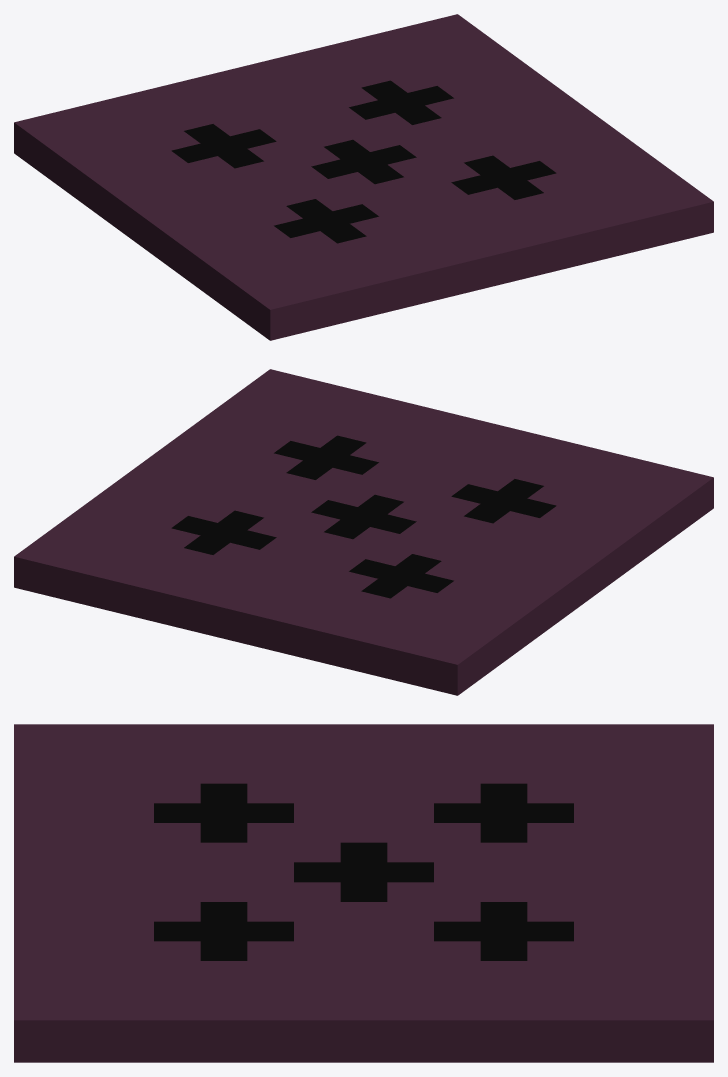
File: dungeon_c_a_ground_a_b.obj
The picture shows the model from 3 angles, top to bottom: view 1: azimuth 30°, elevation 25°; view 2: azimuth 150°, elevation 25°; view 3: azimuth 270°, elevation 25°; orthographic projection. The views are drawn at different scales.
Bounding box in the file's own units: 1.5 × 0.1 × 1.5.
Materials: 1 (1 with a texture image).
